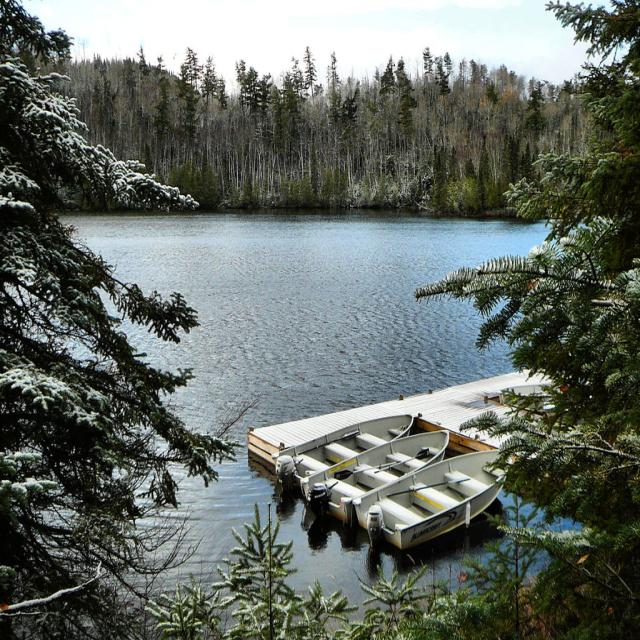Boat: (254, 385, 517, 561)
